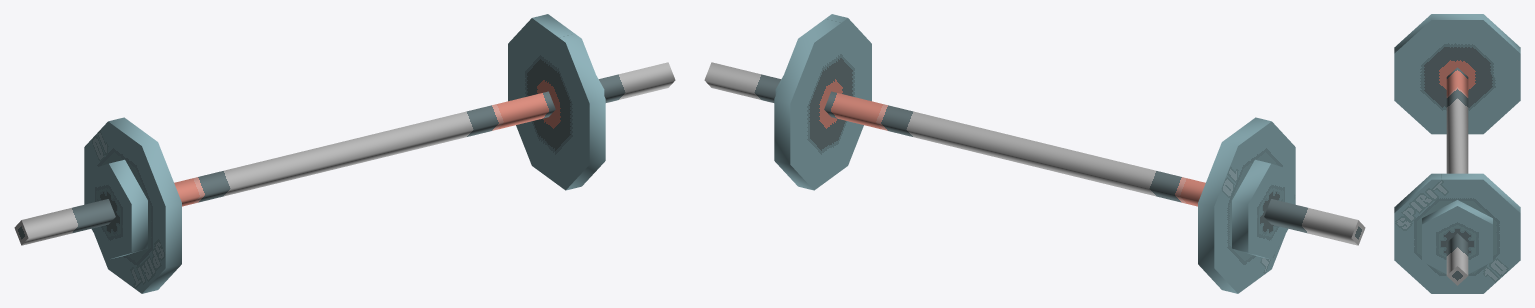
The model's file is 0447_Barbell.glb.
3 renders of one model, left to right at view 1: azimuth 30°, elevation 25°; view 2: azimuth 150°, elevation 25°; view 3: azimuth 270°, elevation 25°, orthographic. The views are drawn at different scales.
Parts seen in each view (by area): view 1: part_0; view 2: part_0; view 3: part_0.
Boxes of the visible parts, <box> form: part_0: <box>14,14,675,293</box>; part_0: <box>704,14,1365,293</box>; part_0: <box>1394,14,1520,293</box>.
Bounding box in the file's own units: 1.95 × 0.4266 × 0.4266.
Materials: 1 (1 with a texture image).
